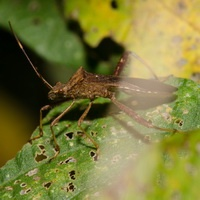insect: (8, 21, 177, 157)
